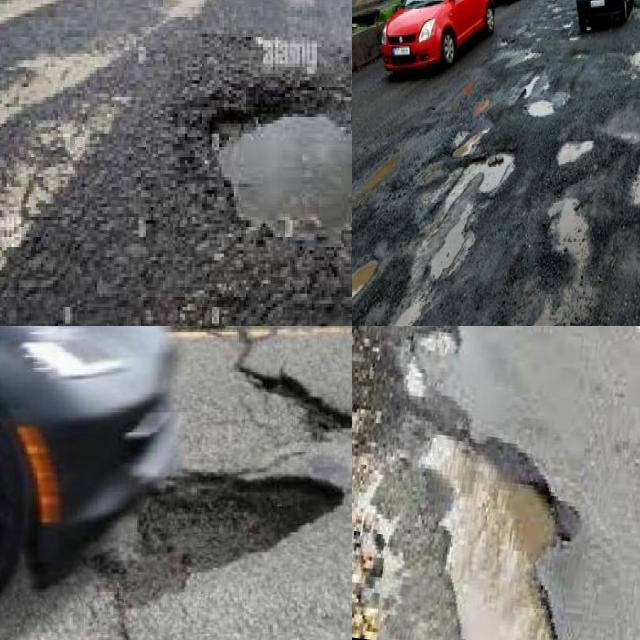Pothole: (412, 431, 579, 640), (93, 476, 345, 609), (352, 154, 514, 326), (137, 472, 344, 585), (214, 114, 352, 244), (352, 326, 468, 442), (238, 366, 352, 442), (419, 330, 458, 355), (405, 363, 426, 397)
